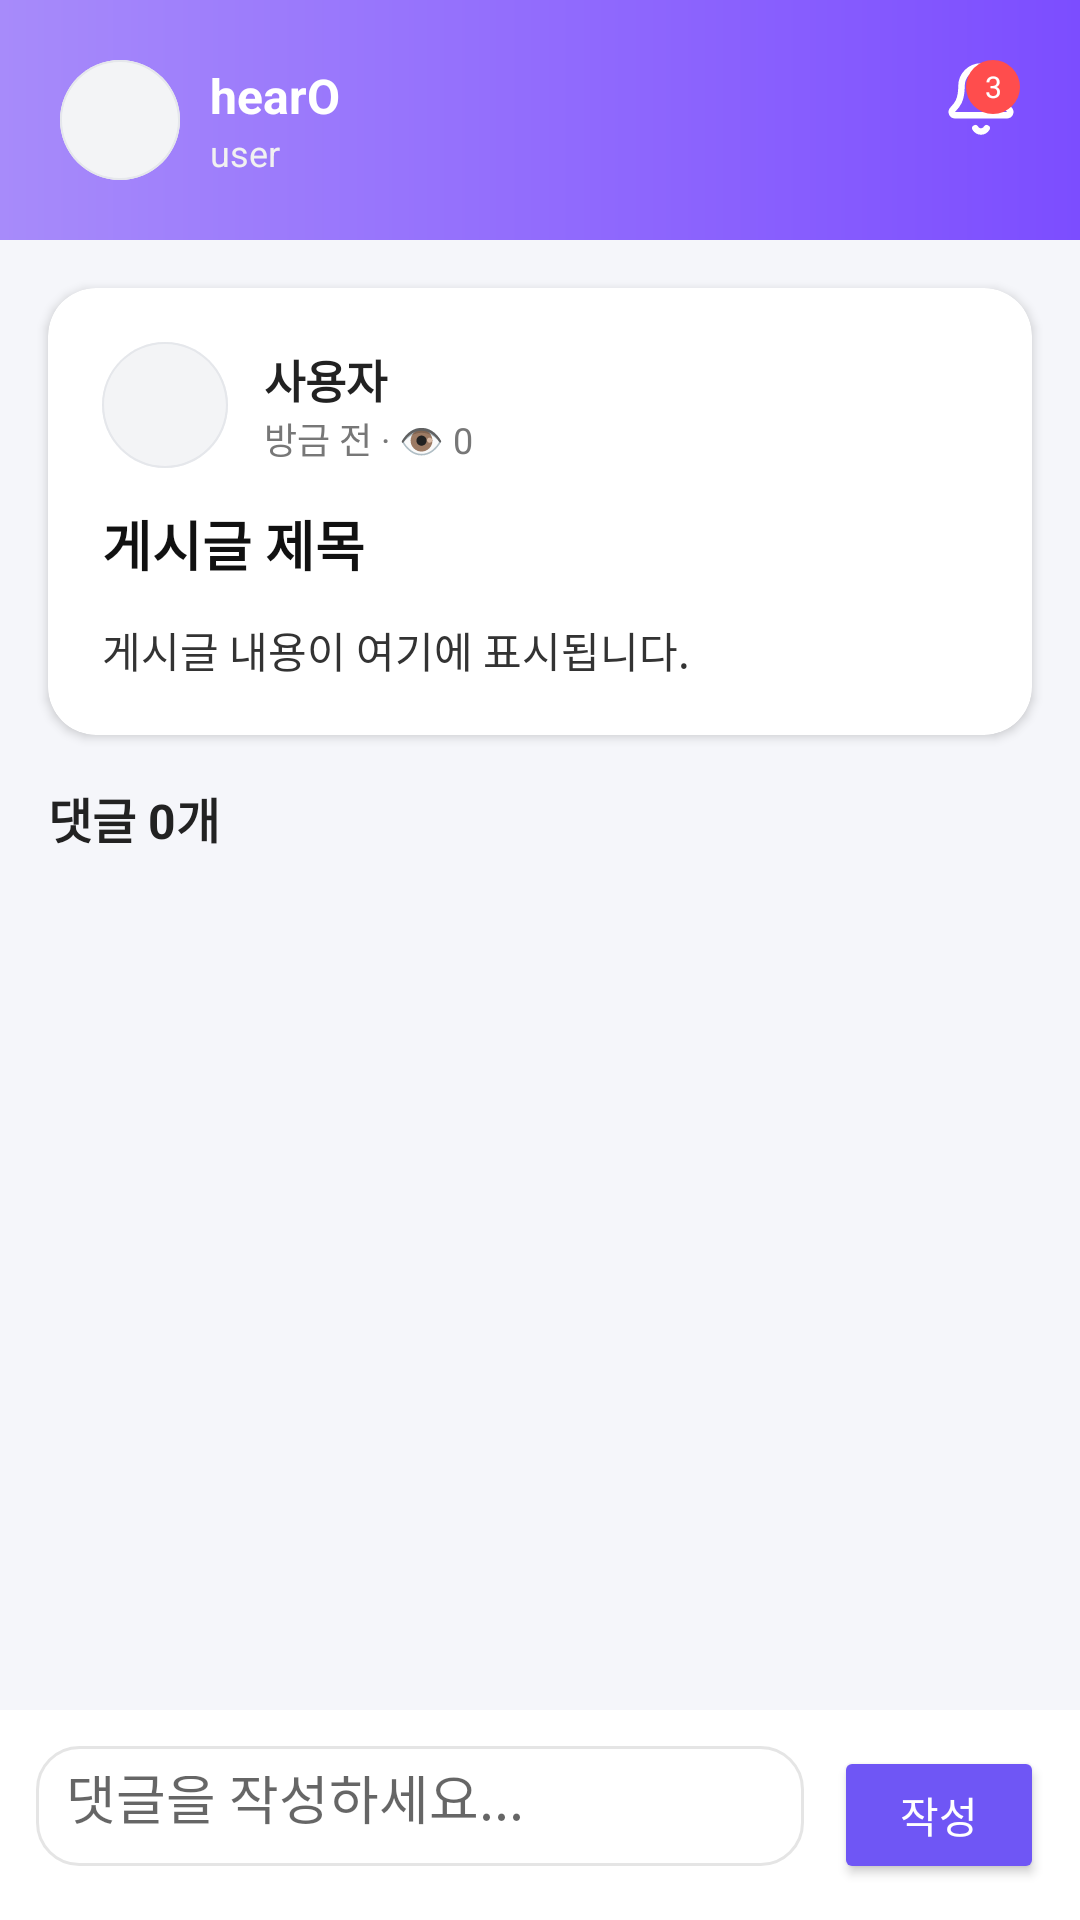

Screen size 1080×1920. Icon name, then its center in pixels as point (x, y):
alarm: point (984, 97)
